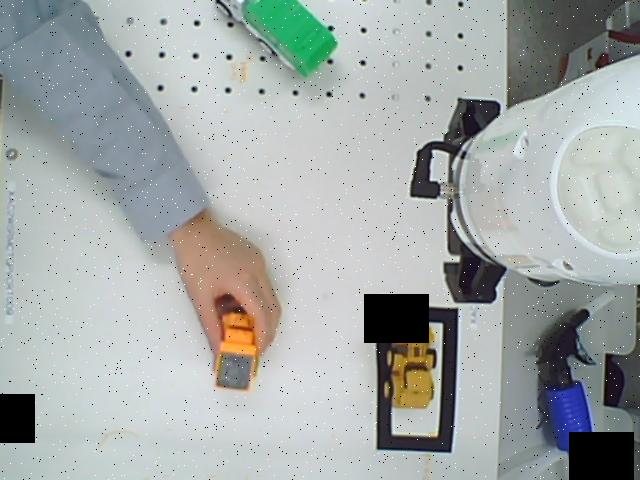Diesel car: (386, 323, 437, 409)
Electric car: (208, 0, 348, 82)
Gasoline car: (216, 310, 259, 396)
